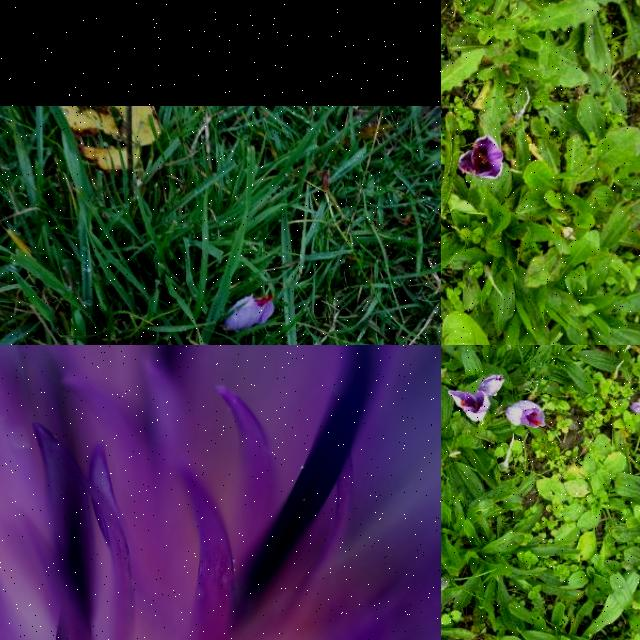flower: (458, 136, 506, 180), (225, 295, 275, 333), (448, 389, 488, 421), (507, 400, 545, 430), (480, 374, 506, 394)
